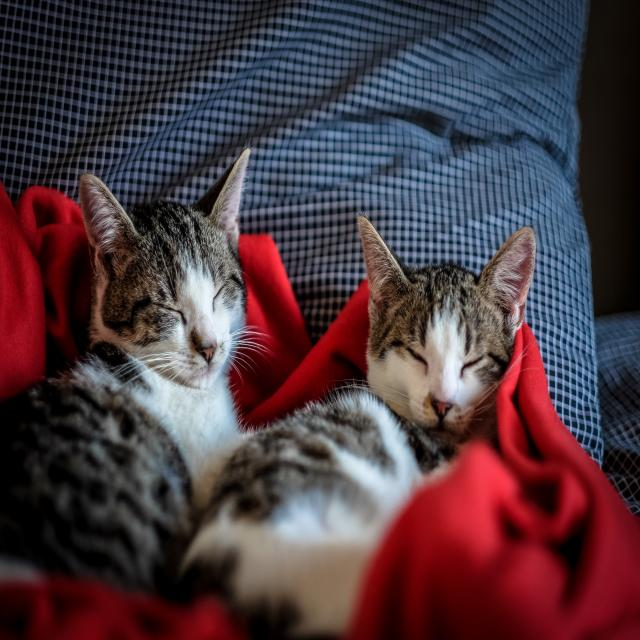cat: (289, 237, 544, 573), (30, 188, 239, 567)
